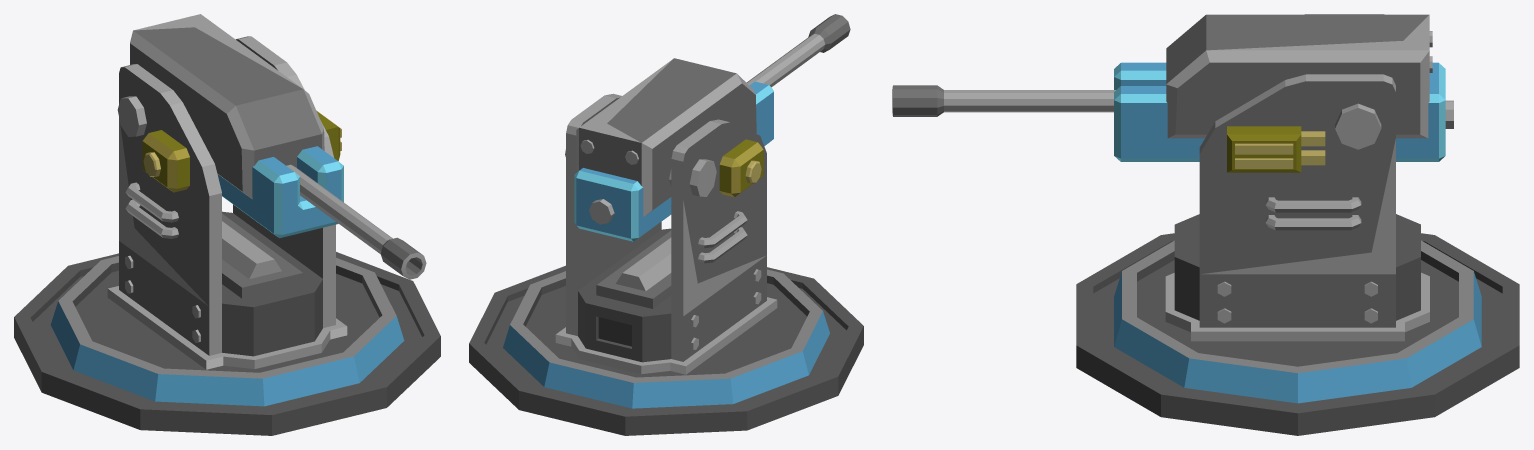
Rendered from tower_machinegun_blue_1.fbx.
3 renders of one model, left to right at view 1: azimuth 30°, elevation 25°; view 2: azimuth 150°, elevation 25°; view 3: azimuth 270°, elevation 25°, orthographic. The views are drawn at different scales.
Visible parts, largest first — view 1: top_machinegun_blue_1, tower_machinegun_blue_1; view 2: top_machinegun_blue_1, tower_machinegun_blue_1; view 3: top_machinegun_blue_1, tower_machinegun_blue_1.
Part boxes in pixels (x1,y1,x2,y2): top_machinegun_blue_1: (50,14,426,406); tower_machinegun_blue_1: (14,252,440,435); top_machinegun_blue_1: (503,14,850,408); tower_machinegun_blue_1: (469,265,863,435); top_machinegun_blue_1: (892,14,1481,403); tower_machinegun_blue_1: (1076,233,1519,435).
Bounding box in the file's own units: 156 × 113 × 210.
